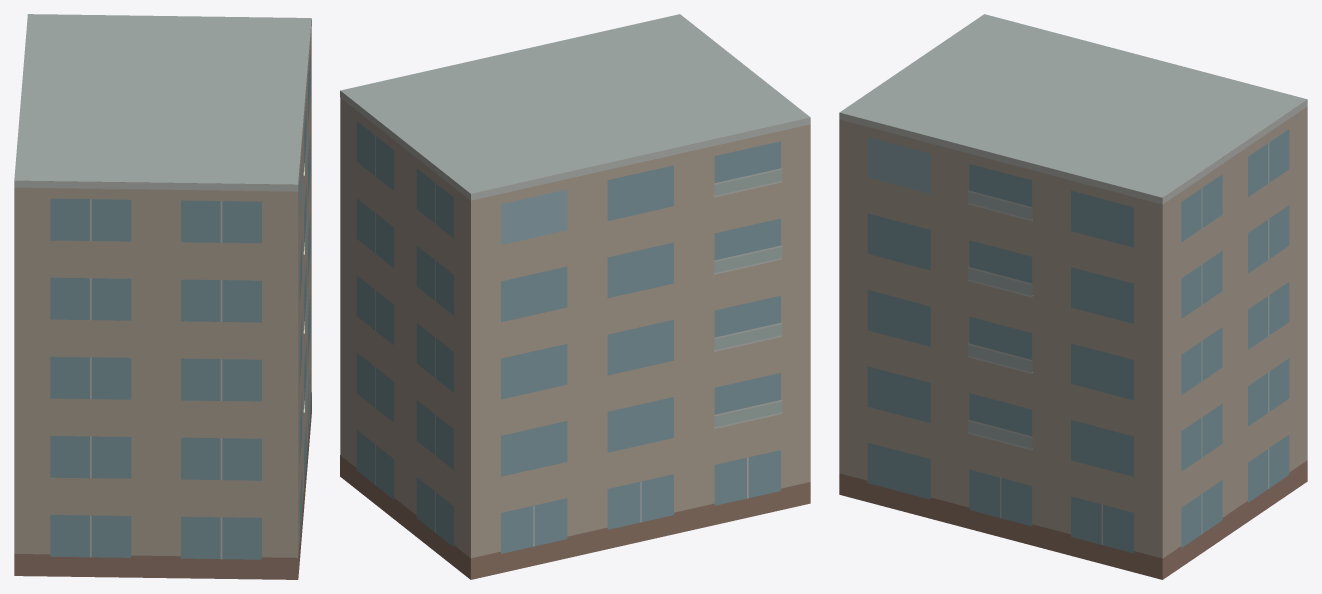
File: survey-upis-32692657.glb
3 views of the same model, side by side, from view 1: azimuth 30°, elevation 25°; view 2: azimuth 150°, elevation 25°; view 3: azimuth 270°, elevation 25° (orthographic). The views are drawn at different scales.
Visible parts, largest first — view 1: survey-upis-32692657.tmp; view 2: survey-upis-32692657.tmp; view 3: survey-upis-32692657.tmp.
Boxes of the visible parts, box(x1,y1,x2,y2) form: survey-upis-32692657.tmp: box(14, 14, 311, 579); survey-upis-32692657.tmp: box(340, 14, 810, 579); survey-upis-32692657.tmp: box(839, 14, 1307, 579).
Bounding box in the file's own units: 14.14 × 13.7 × 15.23.
